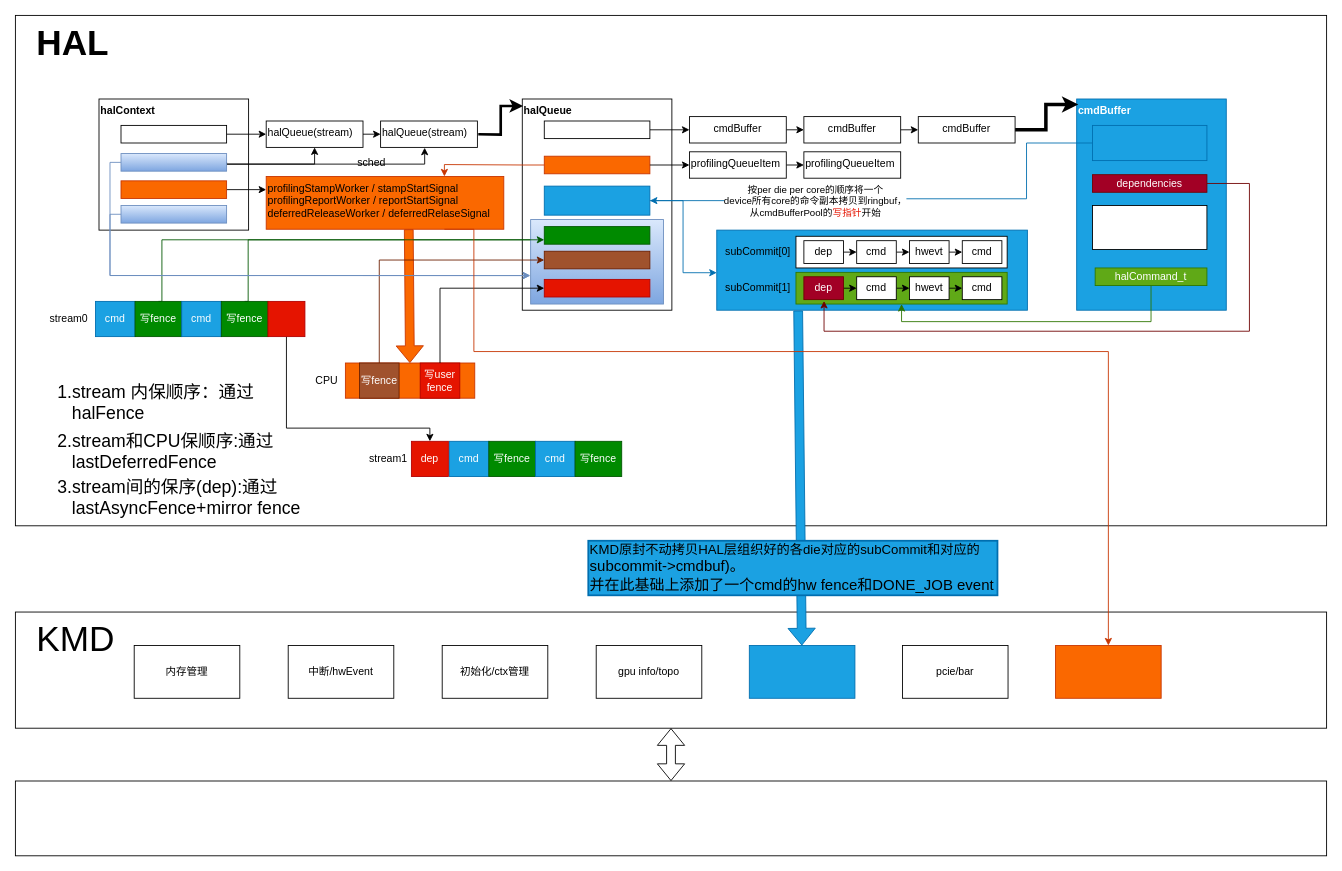
The diagram is 1342 pixels wide and 871 high, and some of its shapes have lost their labels. Each missing label, with the centre of its shape:
"channel[ ]" belongs at [173,189].
"cmd.die[ ] cmdBase/cmdBuffer/size" belongs at [1149,143].
"cmdBufferHelpter_t/ deferredRelease" belongs at [1149,227].
"cmdBufferPool( ringbuf )" belongs at [596,200].
"commandQueue" belongs at [596,129].
"GPU HW" belongs at [671,818].
"halFence" belongs at [596,235].
"lastAsyncFence" belongs at [596,288].
"lastDeferredFence" belongs at [596,259].
"mirror fence" belongs at [286,319].
"profilingQueue" belongs at [596,164].
"queueList" belongs at [173,134].
"simple_round_robin" belongs at [173,162].
"waitHalQueueIdle" belongs at [173,214].
"同步策略" belongs at [1108,671].
"命令提交" belongs at [801,671].
